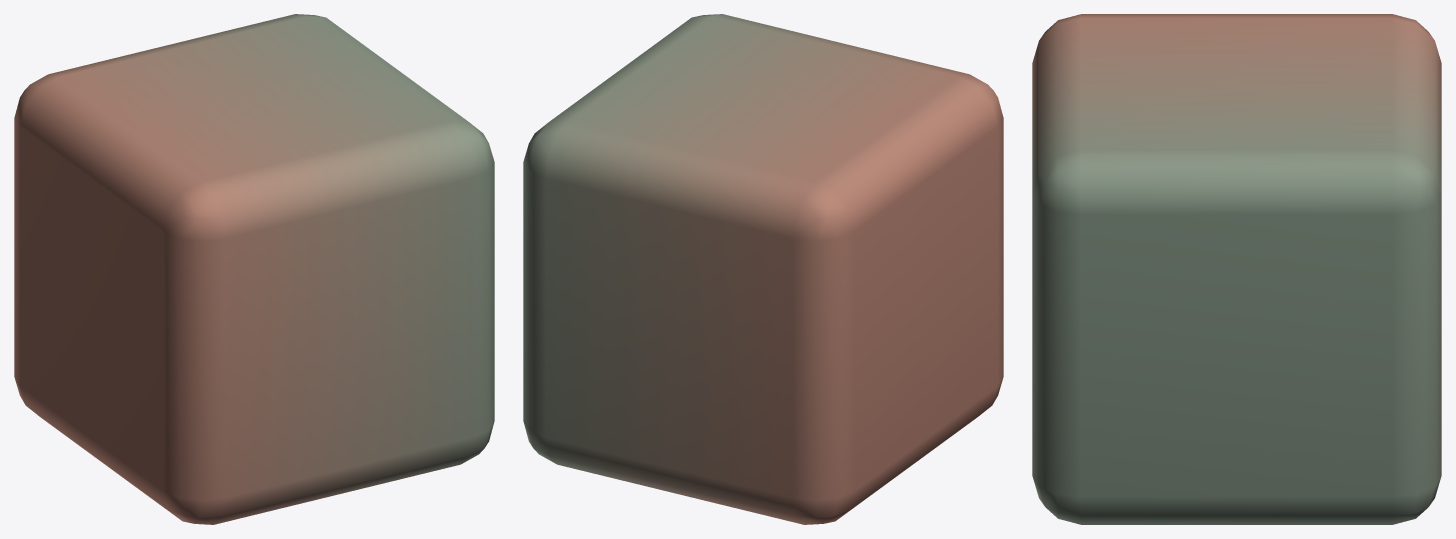
The model's file is p0_rounded_cube.glb.
The picture shows the model from 3 angles, left to right: view 1: azimuth 30°, elevation 25°; view 2: azimuth 150°, elevation 25°; view 3: azimuth 270°, elevation 25°; orthographic projection. The views are drawn at different scales.
Visible parts, largest first — view 1: P0RoundedCube; view 2: P0RoundedCube; view 3: P0RoundedCube.
Boxes of the visible parts, bbox=[...] form: P0RoundedCube: bbox=[14, 14, 494, 524]; P0RoundedCube: bbox=[523, 14, 1003, 524]; P0RoundedCube: bbox=[1032, 14, 1441, 524].
Bounding box in the file's own units: 1 × 1 × 1.
